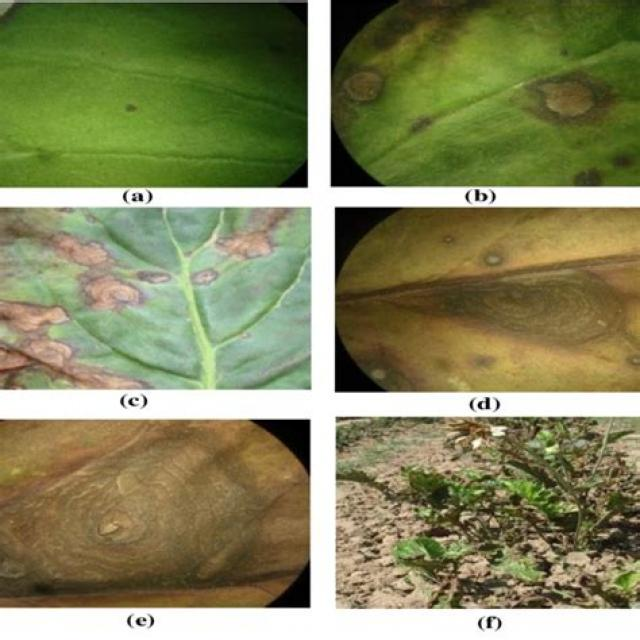blight: (0, 250, 158, 385)
